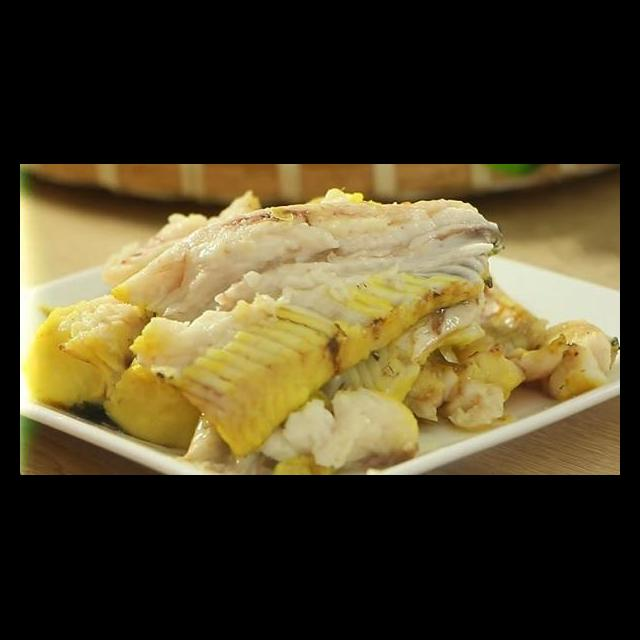ca: (123, 258, 491, 461), (112, 198, 505, 314), (28, 292, 172, 408), (503, 314, 620, 402)
